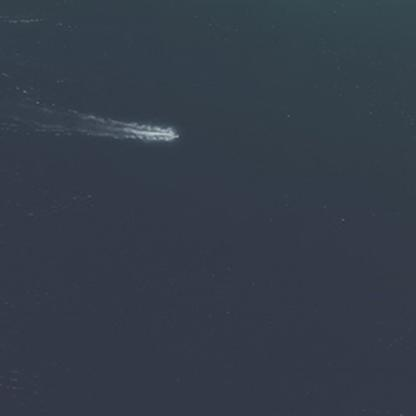ship: (151, 122, 184, 144)
